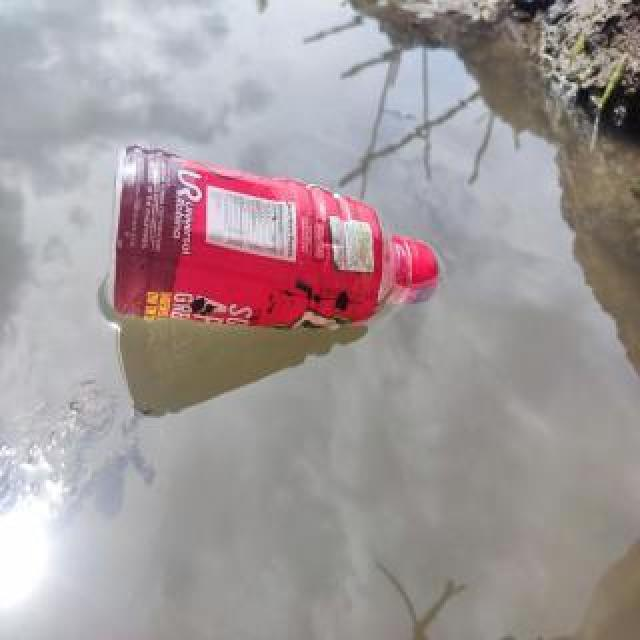bottle: (102, 131, 442, 339)
